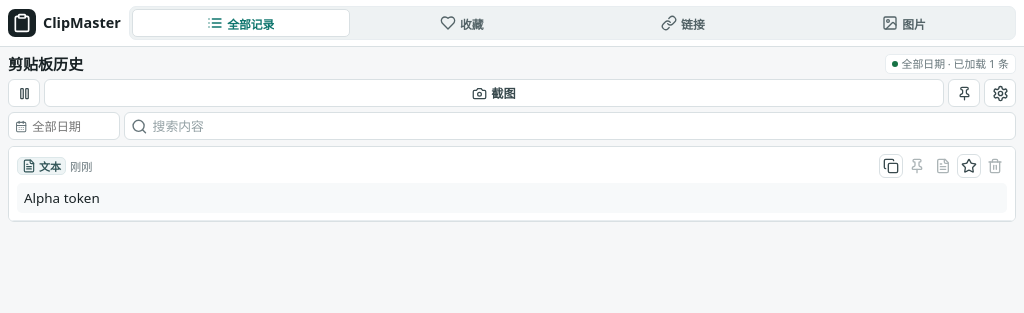
it: App UI › keeps live clipboard events from polluting active search results
This screenshot has width=1024, height=313.
Expected: the button "Alpha token" is shown, 17,183 -> 1007,213
In the search field named "搜索剪贴板内容": (581,126) 153,117 -> 1009,135, type "alpha"
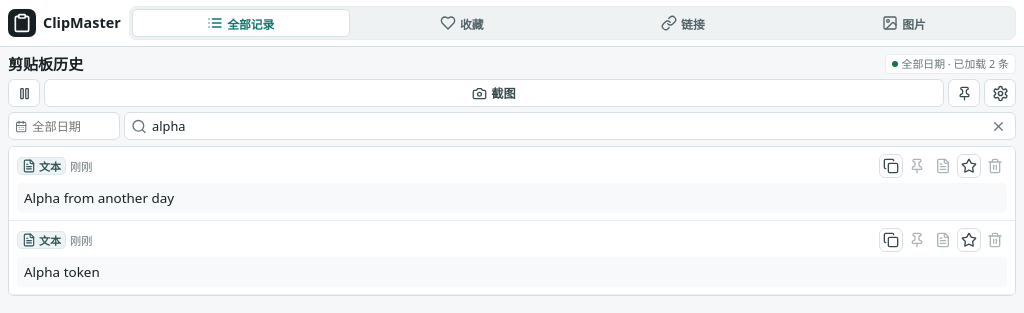
Expected: the button "Alpha token" is shown, 17,257 -> 1007,287
Now the button "Alpha from another day" is shown, box 17,183 -> 1007,213
